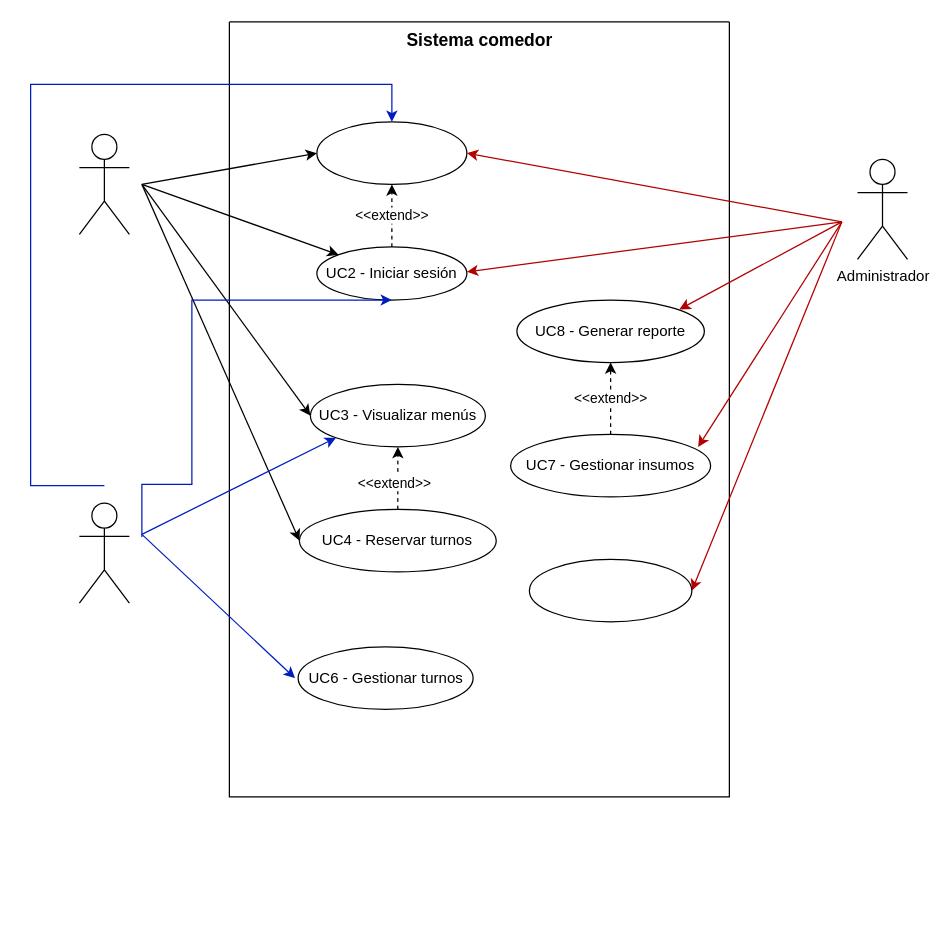
Image size: 950x944. Some labels were removed from this diagram. The shapes that lost their labels are listed below. From the top down, each one's centre as x and y in pixels, then its label:
At point 391,152: "UC1 - Registrarse".
At point 103,183: "Usuario".
At point 103,552: "Empleado".
At point 610,590: "UC5 - Gestionar menús".
